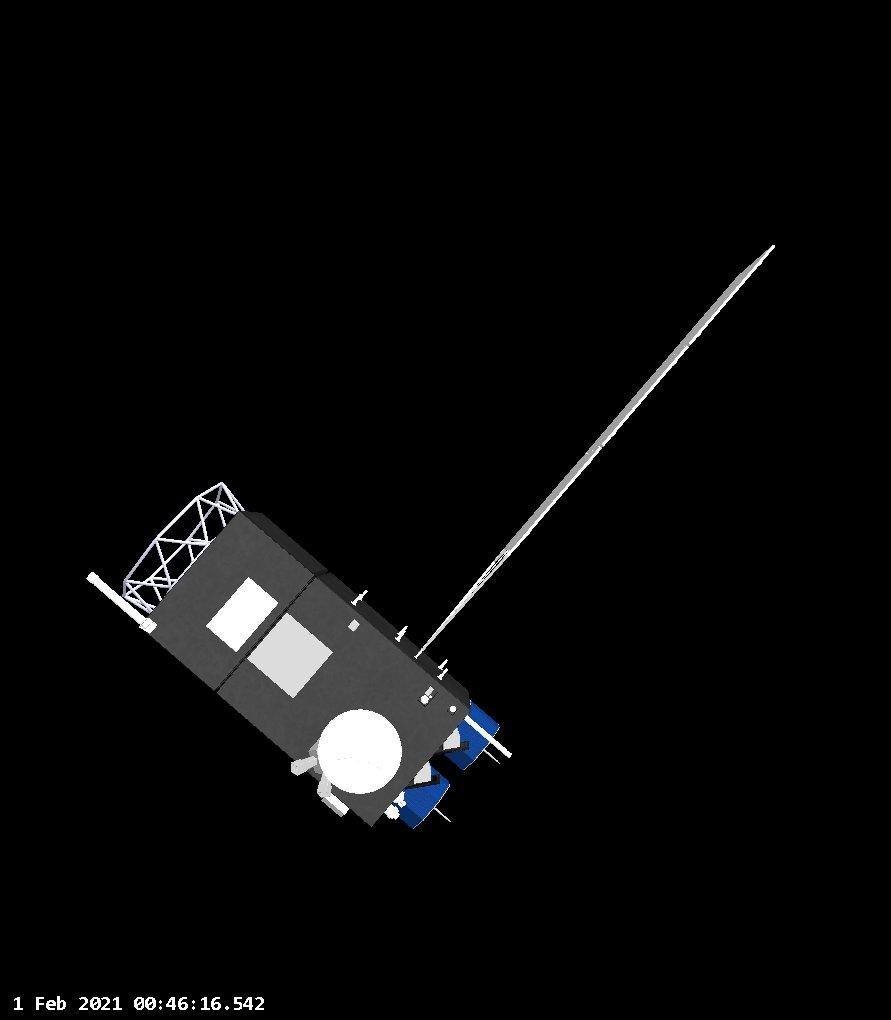antenna: (316, 704, 406, 794), (81, 566, 159, 641), (440, 703, 509, 781), (389, 764, 453, 834)
body: (132, 497, 475, 834)
solar: (412, 231, 783, 666)
